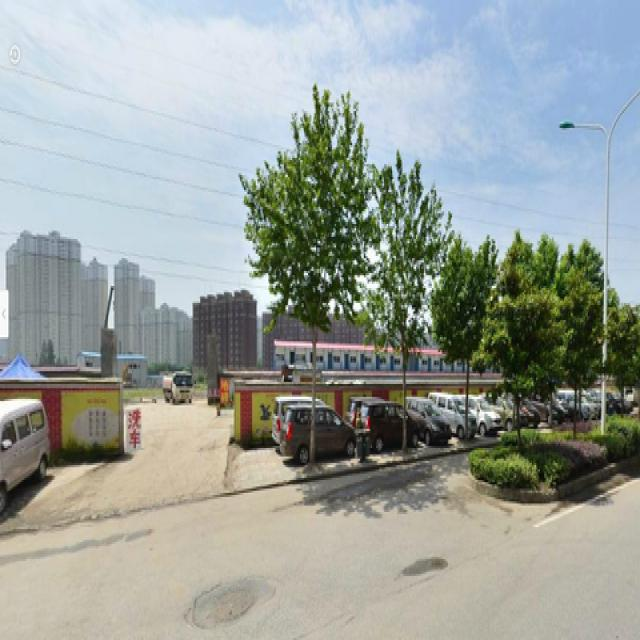meta: (268, 88, 363, 454)
